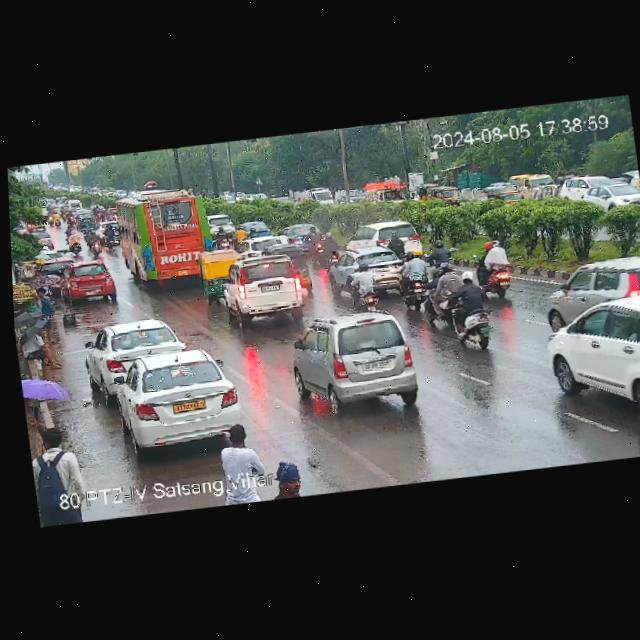bus: (102, 182, 225, 285)
car: (105, 346, 244, 452), (543, 292, 640, 436), (293, 310, 419, 409), (84, 316, 187, 380), (544, 252, 640, 319), (225, 251, 301, 322), (331, 245, 411, 291), (561, 171, 640, 214), (344, 218, 424, 260), (58, 260, 117, 302), (199, 253, 240, 296), (290, 248, 318, 296), (236, 232, 296, 254), (479, 184, 525, 208), (208, 209, 239, 242), (425, 185, 464, 209), (288, 220, 308, 250), (75, 208, 96, 229)
motorcycle: (423, 260, 490, 358), (474, 238, 522, 298), (423, 262, 472, 320), (397, 249, 436, 306), (345, 264, 383, 310), (217, 220, 250, 248), (307, 228, 333, 255), (60, 222, 81, 254), (44, 208, 75, 227), (88, 225, 103, 254), (100, 224, 117, 248)
person: (212, 428, 266, 506), (17, 319, 65, 376), (258, 474, 314, 501), (269, 458, 303, 500), (31, 285, 57, 321)
truck: (365, 182, 409, 207)
